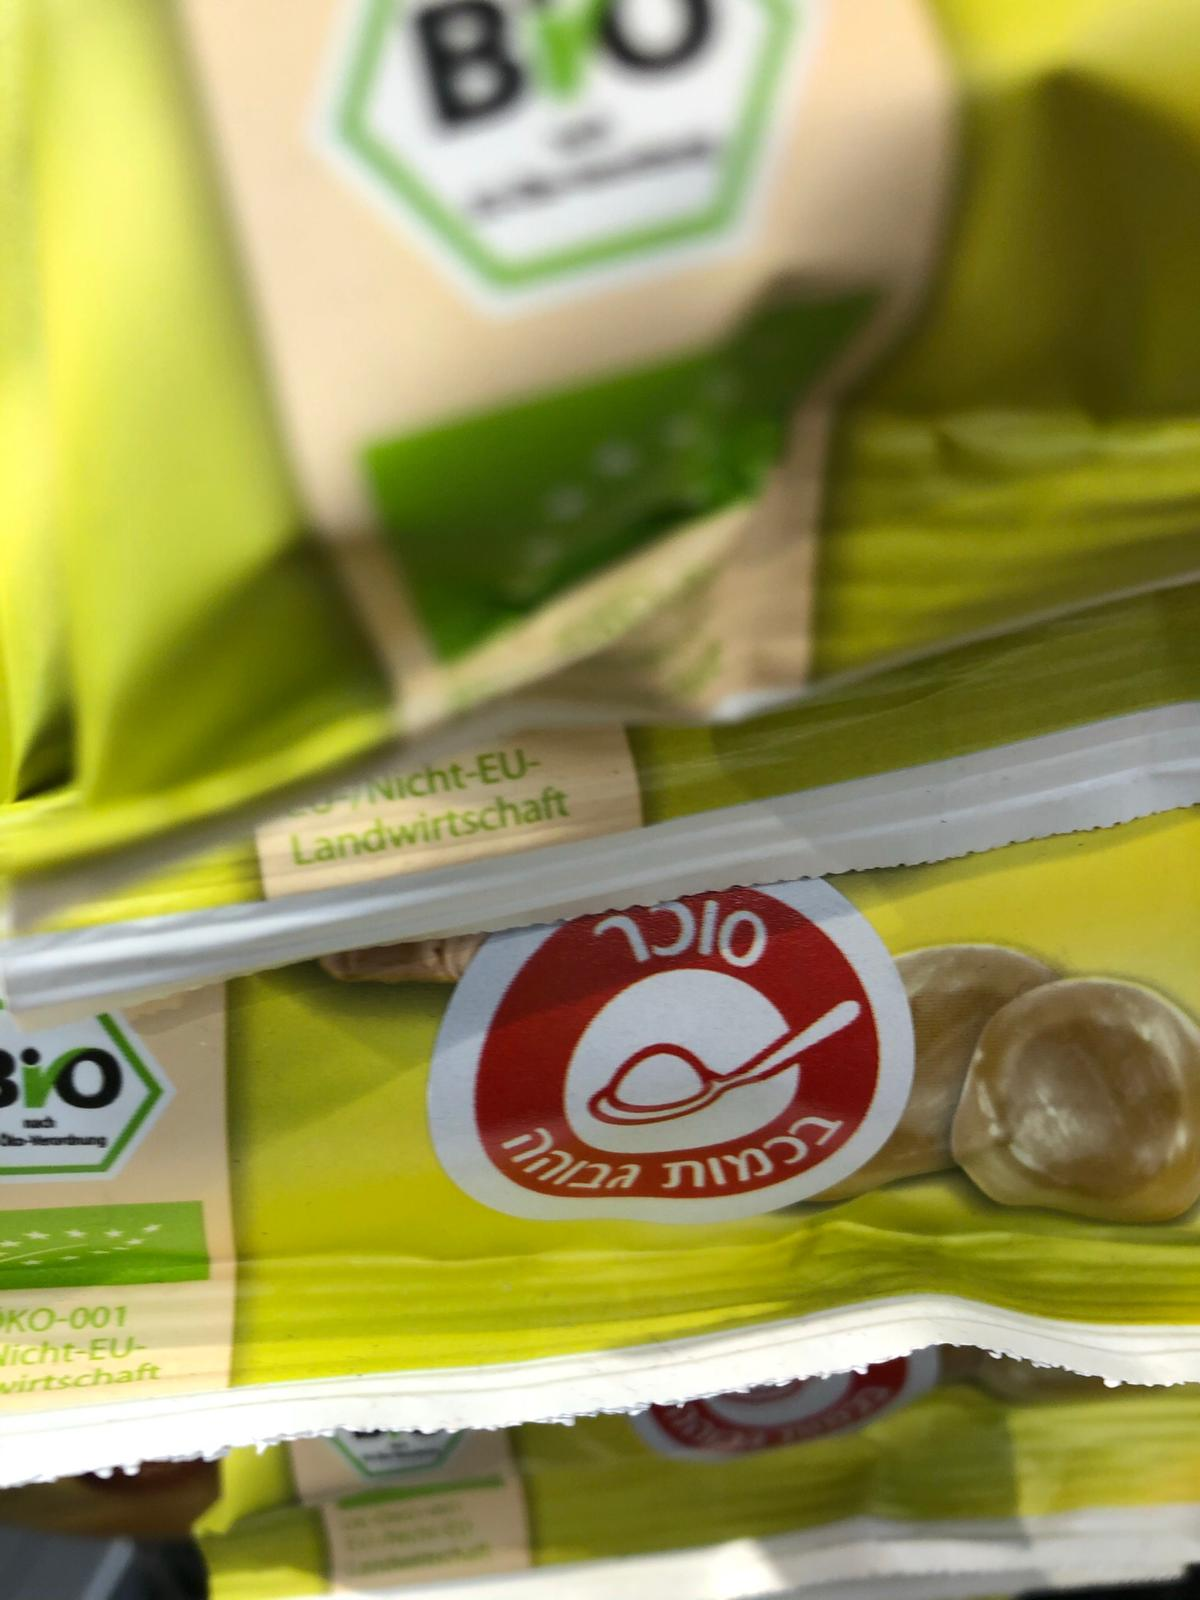sugar: (429, 855, 916, 1220)
